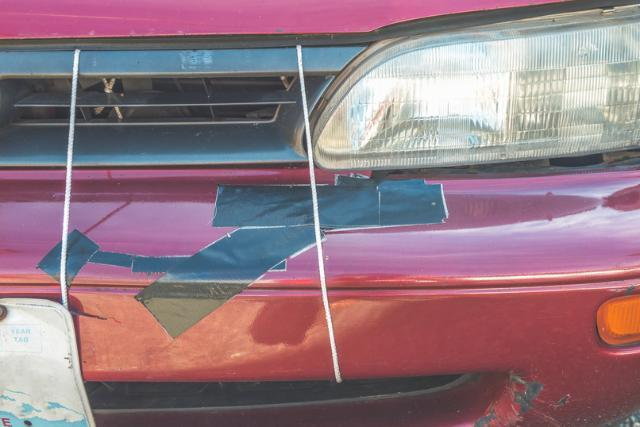Bumper: (12, 162, 594, 427)
